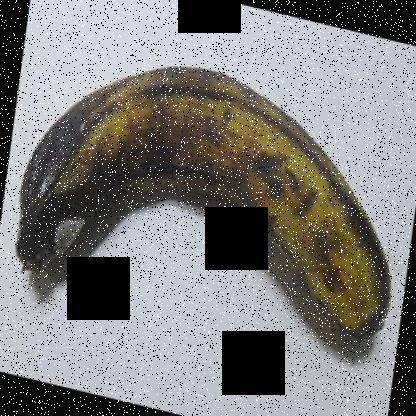overripe: (12, 51, 394, 349)
rotten: (4, 113, 113, 279)
